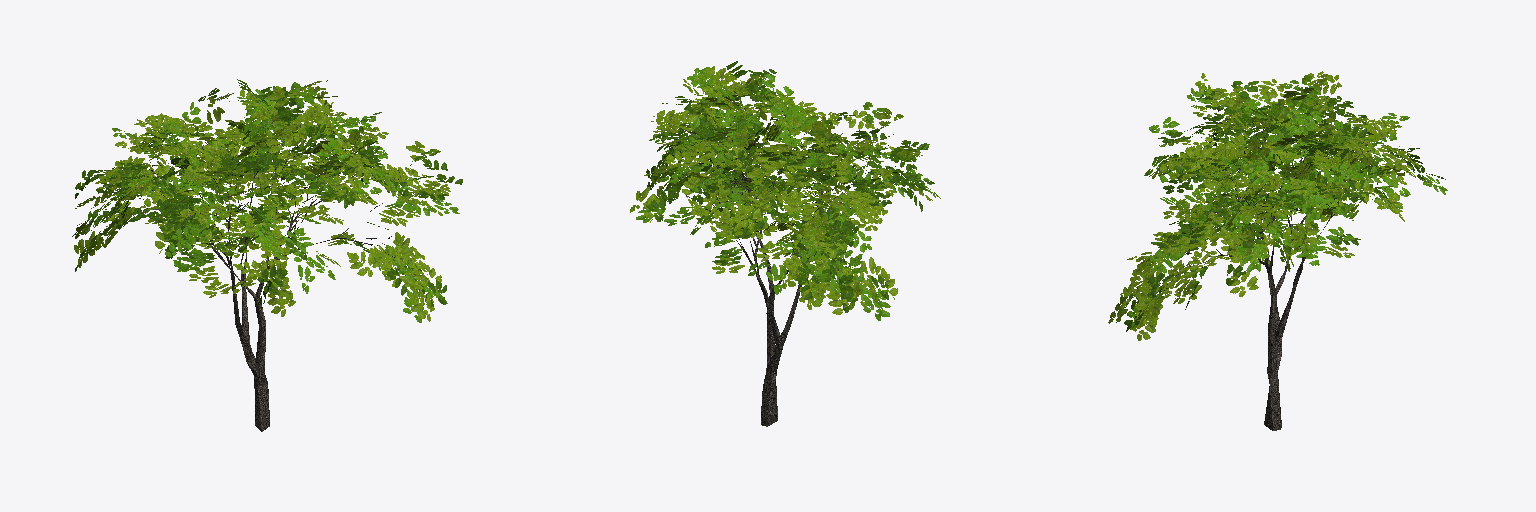
The picture shows the model from 3 angles: view 1: azimuth 30°, elevation 25°; view 2: azimuth 150°, elevation 25°; view 3: azimuth 270°, elevation 25°; orthographic projection.
Parts seen in each view (by area): view 1: Branches_B, Trunk_A; view 2: Branches_B, Trunk_A; view 3: Branches_B, Trunk_A.
Part boxes in pixels (left/top/right/bottom): Branches_B: left=72, top=79, right=462, bottom=322; Trunk_A: left=100, top=93, right=419, bottom=431; Branches_B: left=630, top=61, right=940, bottom=320; Trunk_A: left=668, top=88, right=901, bottom=426; Branches_B: left=1108, top=71, right=1447, bottom=340; Trunk_A: left=1137, top=99, right=1409, bottom=430.
Bounding box in the file's own units: 23.11 × 24.04 × 22.55.
Materials: 2 (2 with a texture image).